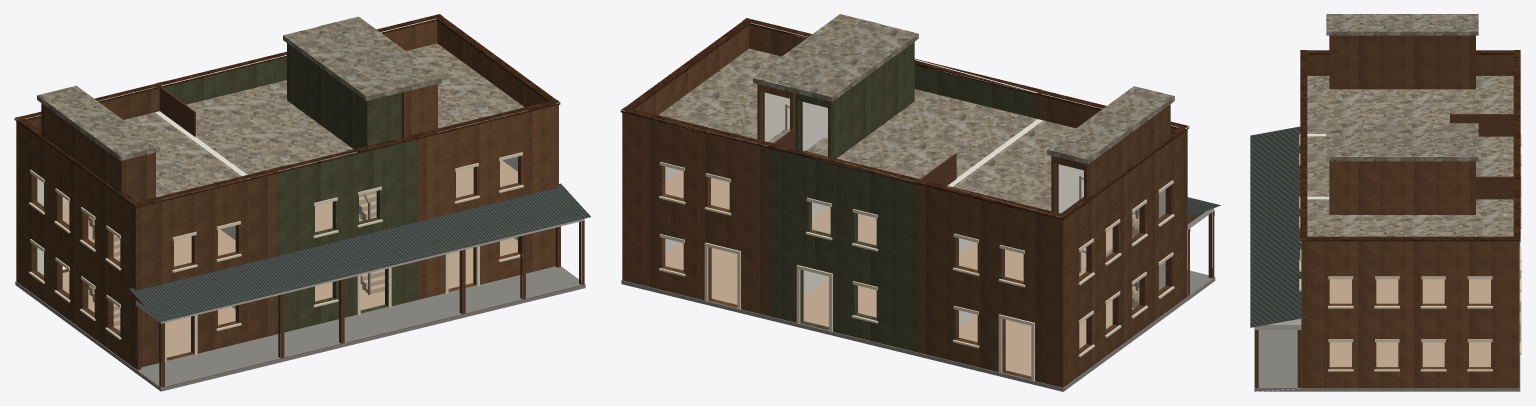
Rendered from rw-mill-row.towns-v2.lod0.glb.
3 views of the same model, side by side, from view 1: azimuth 30°, elevation 25°; view 2: azimuth 150°, elevation 25°; view 3: azimuth 270°, elevation 25° (orthographic). The views are drawn at different scales.
Visible parts, largest first — view 1: rw-mill-row; view 2: rw-mill-row; view 3: rw-mill-row.
Part boxes in pixels (x1,y1,x2,y2): rw-mill-row: (14,14,590,391); rw-mill-row: (620,14,1220,391); rw-mill-row: (1250,14,1521,391).
Size of the model in its own units: 19.6 by 8.99 by 11.69.
Materials: 6 (3 with a texture image).
